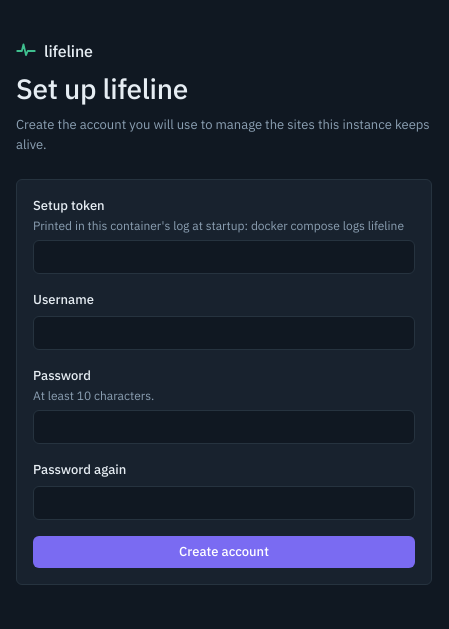
Setup › passes on a rejected token
The width and height of the screenshot is (449, 629).
Type "wrong" into the field labelled "Setup token".
click(224, 257); type("wrong")  # box [33,240,415,274]
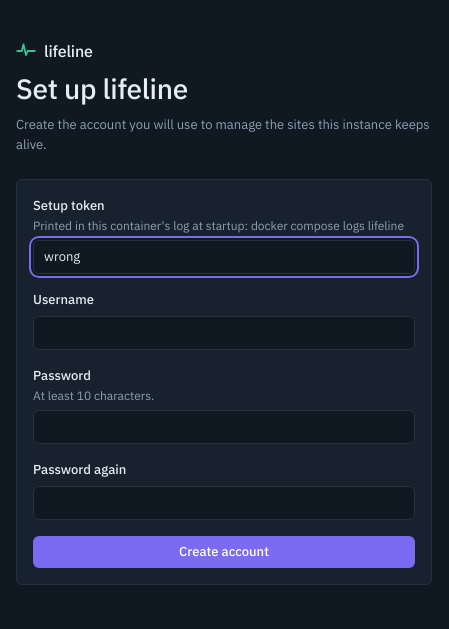
Type "jure" into the field labelled "Username".
click(224, 333); type("jure")  # box [33,316,415,350]
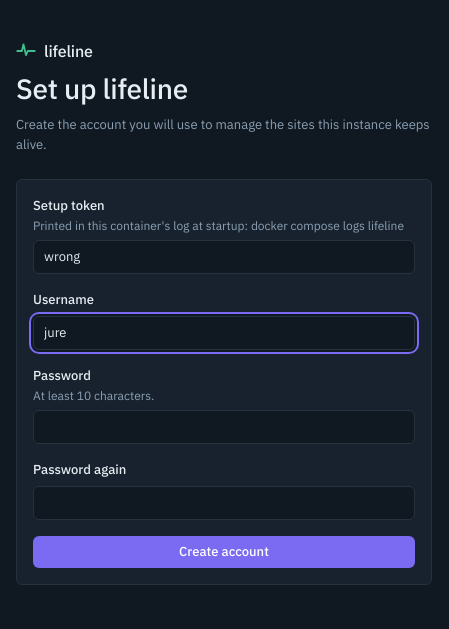
Type "a-good-long-password" into the password field labelled "Password".
click(224, 427); type("a-good-long-password")  # box [33,410,415,444]
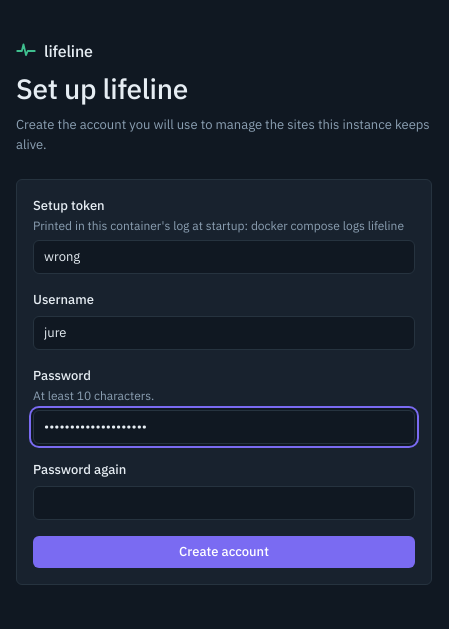
Type "a-good-long-password" into the password field labelled "Password again".
click(224, 503); type("a-good-long-password")  # box [33,486,415,520]
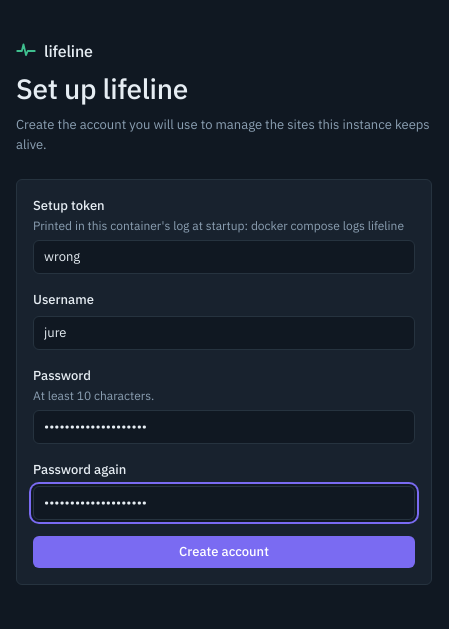
Click the button "Create account".
click(224, 552)  # box [33,536,415,568]
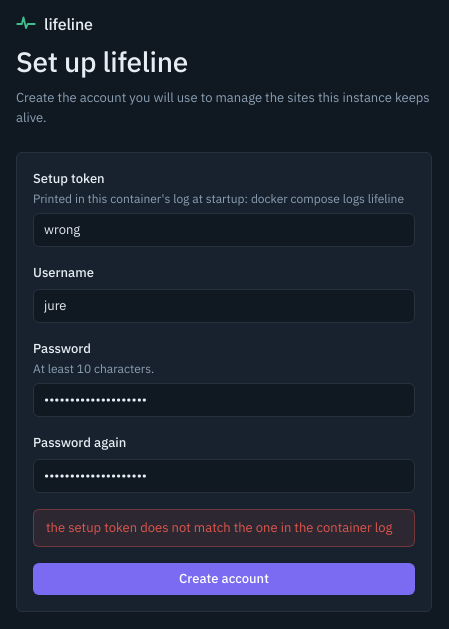
expect the message shows "does not match": met, box [46,519,392,536]
